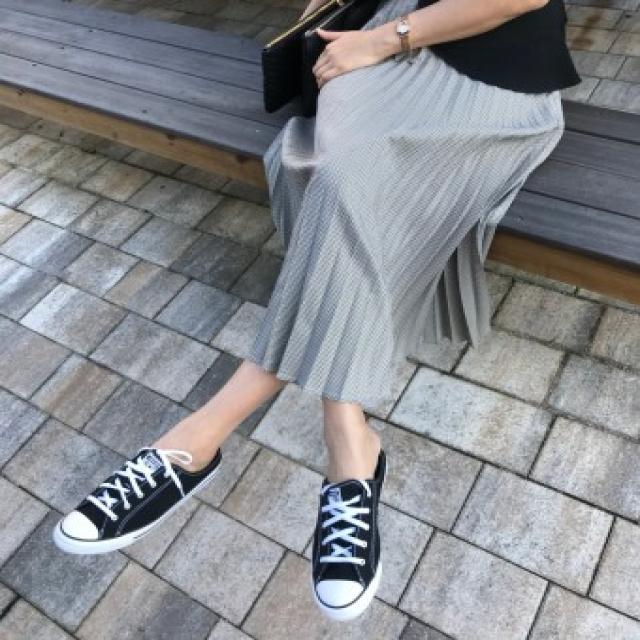no-boots: (43, 454, 215, 571), (307, 454, 391, 616)
